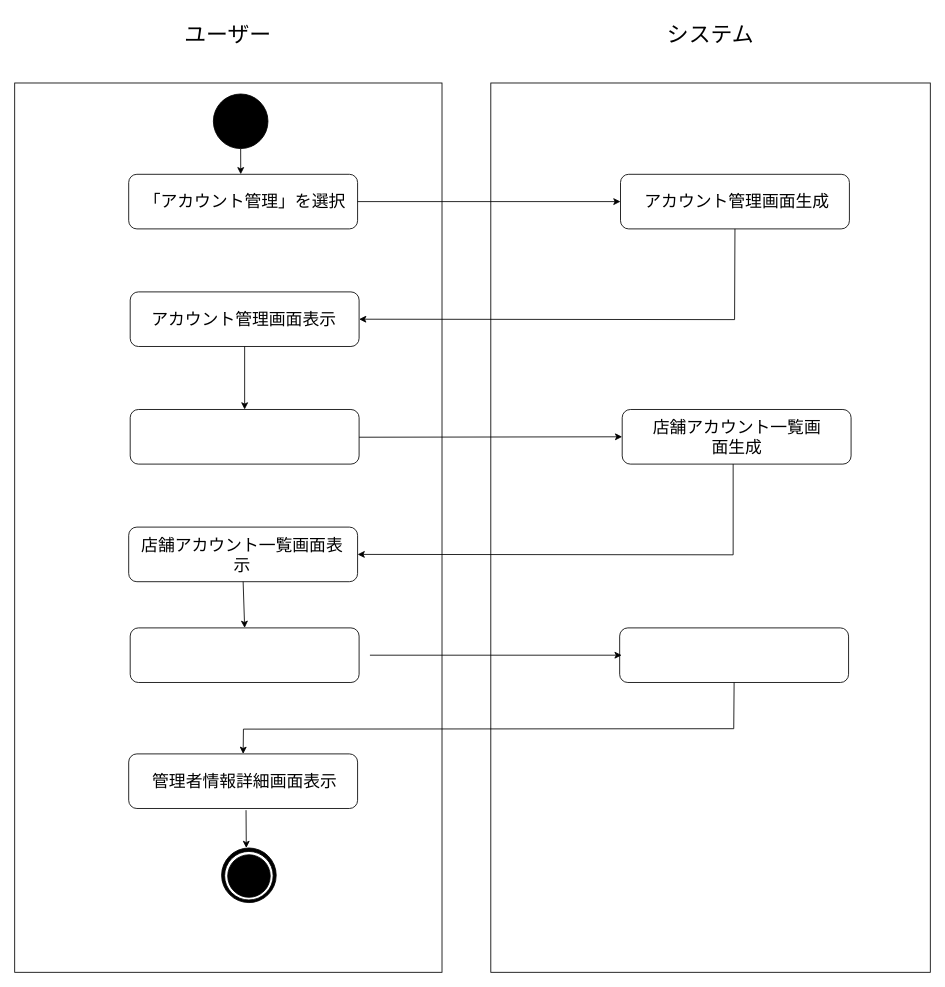
Some shapes in this 945 by 987 pixel diagram are drawn without their labels. The box of each missing label's shape, as (x1, y1, x2, y2) in pixels:
「店舗」を選択: (129, 409, 359, 464)
「詳細」を選択: (129, 627, 359, 682)
店舗情報詳細画面生成: (619, 627, 849, 682)
